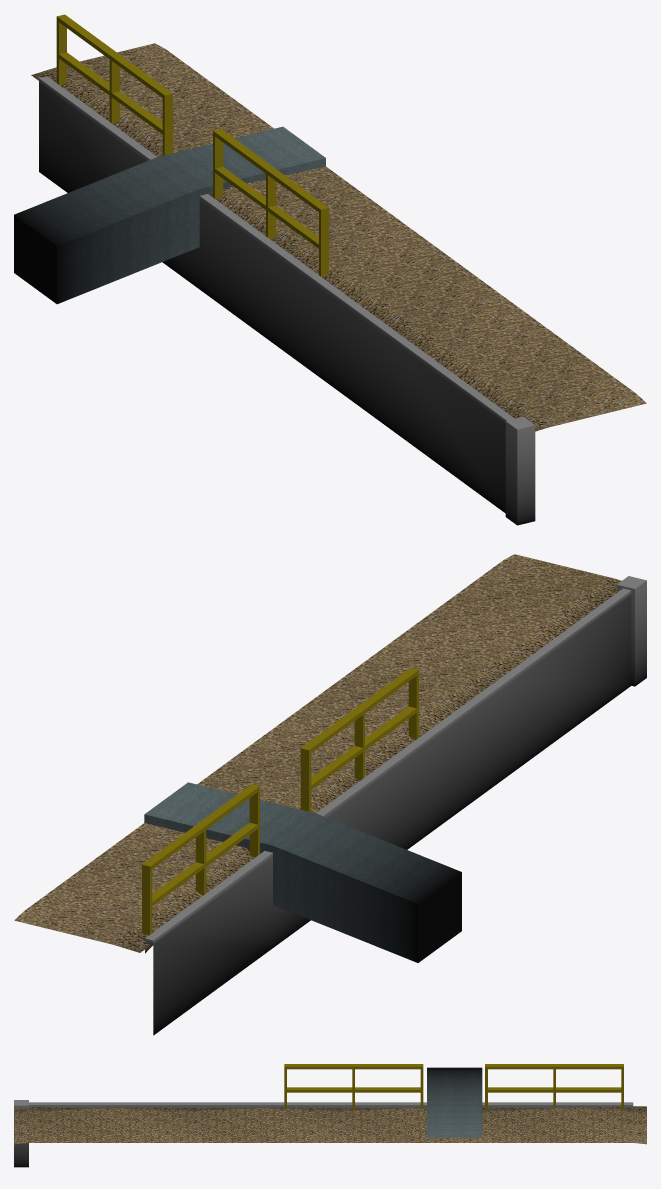
The model's file is HUMIKIRI_R01.glb.
3 renders of one model, top to bottom at view 1: azimuth 30°, elevation 25°; view 2: azimuth 150°, elevation 25°; view 3: azimuth 270°, elevation 25°, orthographic. The views are drawn at different scales.
Visible parts, largest first — view 1: Model, Joint_11, Joint_1; view 2: Model, Joint_11, Joint_1; view 3: Model, Joint_11, Joint_1.
Boxes of the visible parts, x1,y1,x2,y2 form: Model: (31,43,646,525); Joint_11: (14,126,328,304); Joint_1: (56,14,172,155); Model: (14,554,646,1035); Joint_11: (144,668,461,962); Joint_1: (142,784,259,935); Model: (14,1100,646,1167); Joint_11: (284,1064,482,1137); Joint_1: (485,1064,623,1110).
Bounding box in the file's own units: 33 × 18.57 × 105.
Materials: 5 (5 with a texture image).
